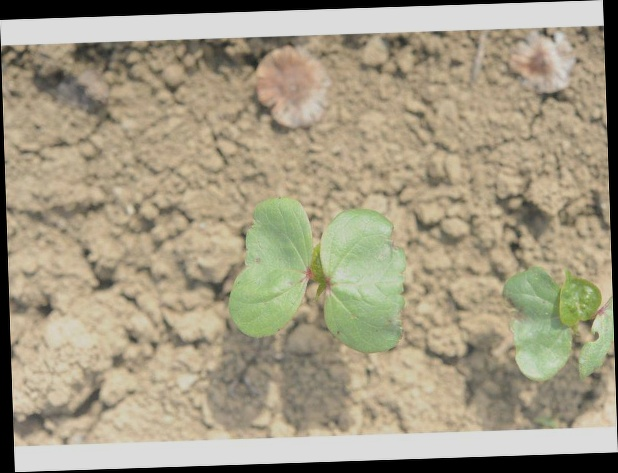cotton: (227, 192, 407, 357), (502, 264, 613, 385)
